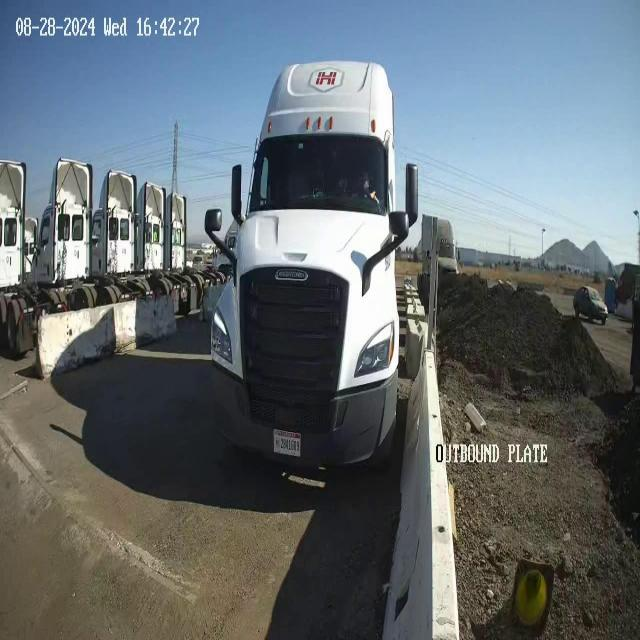TRUCK_OUT: (205, 59, 419, 473)
